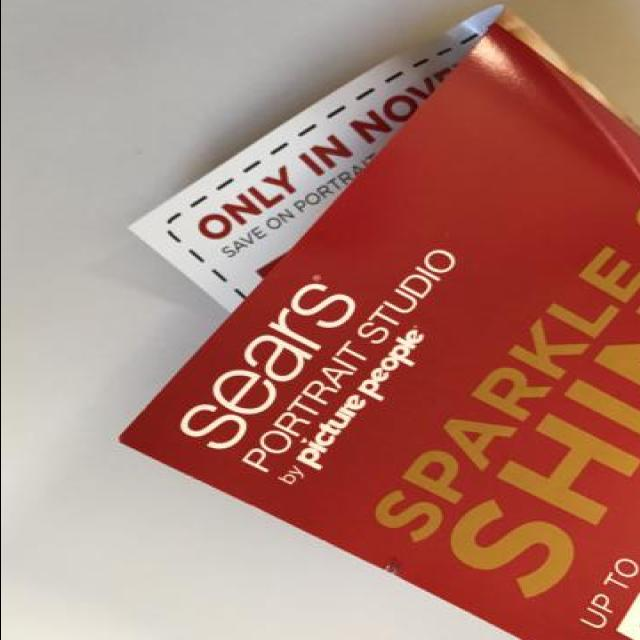kertas: (113, 1, 640, 640)
